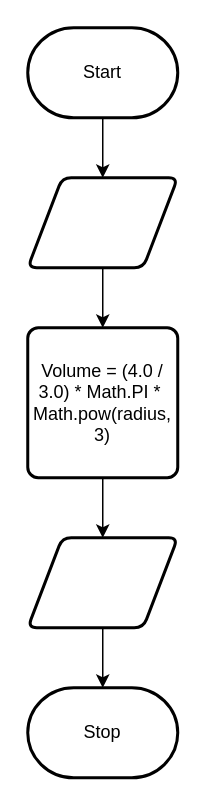
This 204x804 diagram has some shape labels left out. Each missing label, with the centre of its shape:
"Input radius in url" belongs at point (102, 222).
"Output volume" belongs at point (102, 582).
